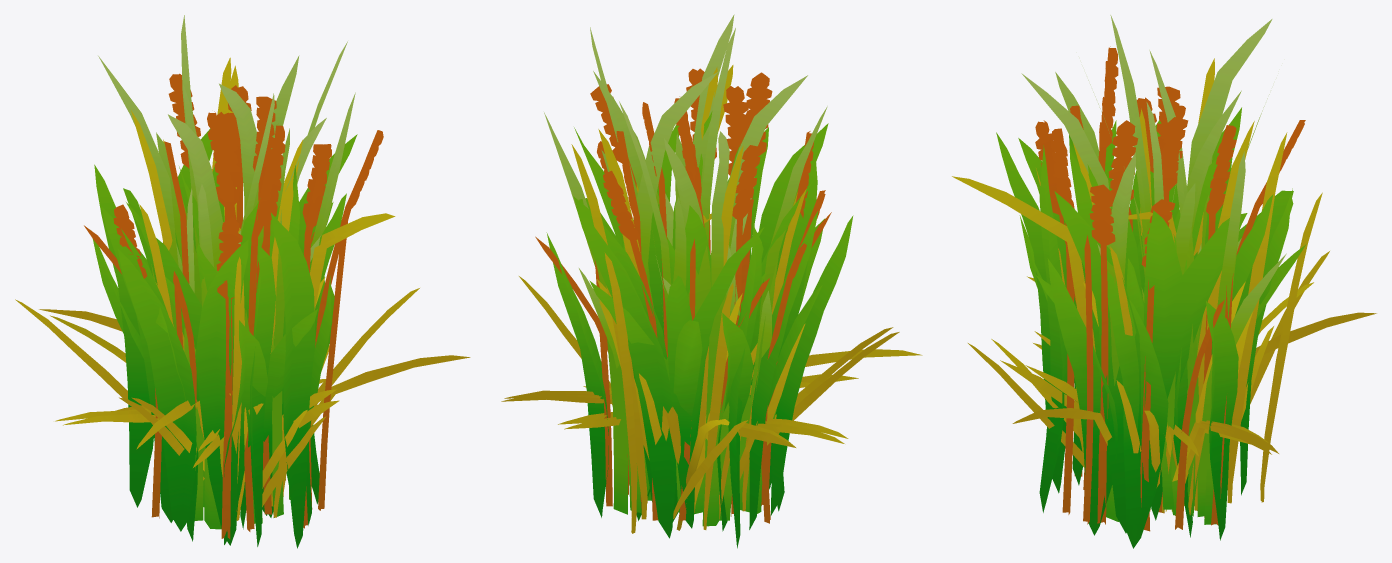
The model's file is grass.glb.
3 renders of one model, left to right at view 1: azimuth 30°, elevation 25°; view 2: azimuth 150°, elevation 25°; view 3: azimuth 270°, elevation 25°, orthographic. The views are drawn at different scales.
Parts seen in each view (by area): view 1: Grass_Wide_Tall, Grass_Wheat, Grass_Common_Tall, Grass_Wispy_Tall, Grass_Wide_Short, Grass_Wispy_Short, Grass_Common_Short; view 2: Grass_Wide_Tall, Grass_Common_Tall, Grass_Wispy_Tall, Grass_Wheat, Grass_Wide_Short, Grass_Wispy_Short, Grass_Common_Short; view 3: Grass_Wide_Tall, Grass_Wheat, Grass_Wide_Short, Grass_Common_Tall, Grass_Wispy_Tall, Grass_Wispy_Short, Grass_Common_Short.
Part boxes in pixels (box(x1,y1,x2,y2)): Grass_Wide_Tall: box(94, 128, 357, 548); Grass_Wheat: box(84, 73, 383, 539); Grass_Common_Tall: box(98, 15, 355, 529); Grass_Wispy_Tall: box(15, 57, 470, 517); Grass_Wide_Short: box(93, 202, 334, 544); Grass_Wispy_Short: box(50, 277, 336, 520); Grass_Common_Short: box(176, 188, 321, 520); Grass_Wide_Tall: box(573, 111, 853, 548); Grass_Common_Tall: box(544, 14, 827, 526); Grass_Wispy_Tall: box(501, 65, 922, 533); Grass_Wheat: box(535, 68, 831, 523); Grass_Wide_Short: box(546, 218, 824, 531); Grass_Wispy_Short: box(504, 279, 893, 530); Grass_Common_Short: box(579, 177, 776, 520); Grass_Wide_Tall: box(996, 107, 1293, 533); Grass_Wheat: box(1035, 46, 1305, 531); Grass_Wide_Short: box(1019, 213, 1306, 548); Grass_Common_Tall: box(1021, 15, 1272, 524); Grass_Wispy_Tall: box(952, 58, 1376, 512); Grass_Wispy_Short: box(991, 281, 1313, 515); Grass_Common_Short: box(1097, 184, 1286, 516).
Size of what is drawn, in the model's own units: 1.54 by 1.95 by 1.59.
1 material, 1 textured.
